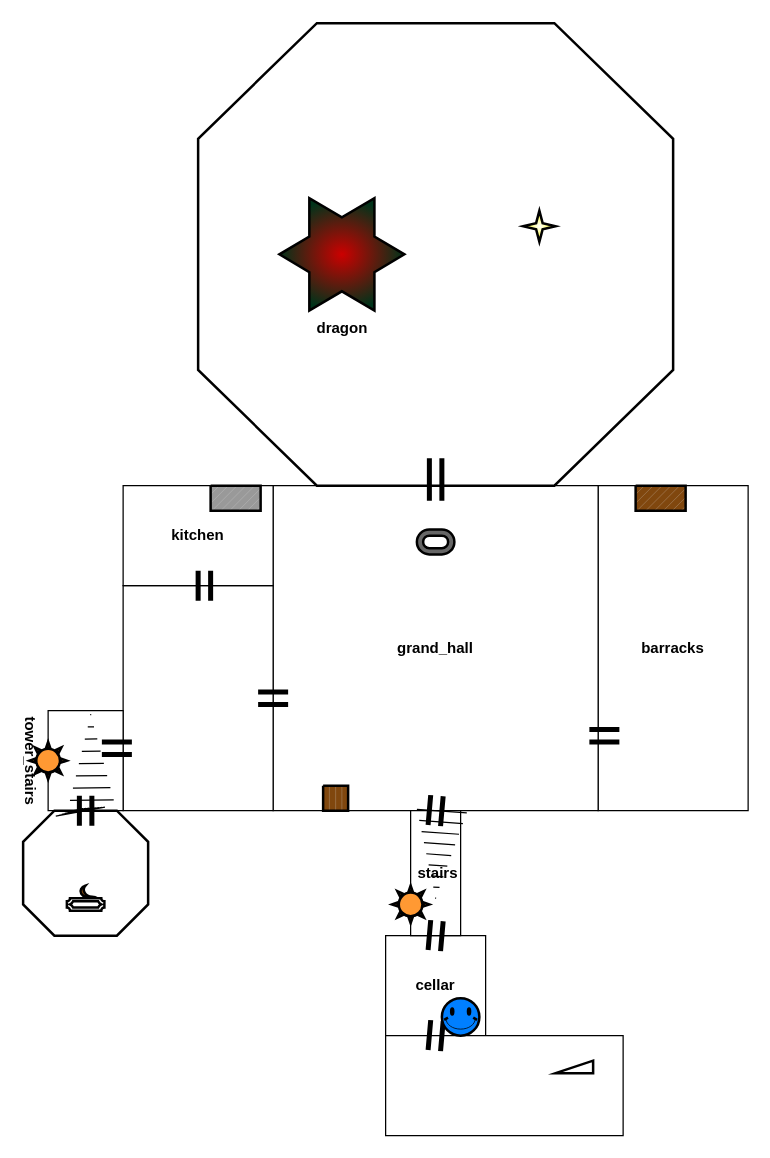
The diagram is 770 pixels wide and 1158 high, and some of its shapes have lost their labels. Each missing label, with the centre of its shape:
armory: (x=503, y=1085)
dinning_hall: (x=197, y=697)
princess: (x=538, y=225)
Tower: (x=85, y=872)
